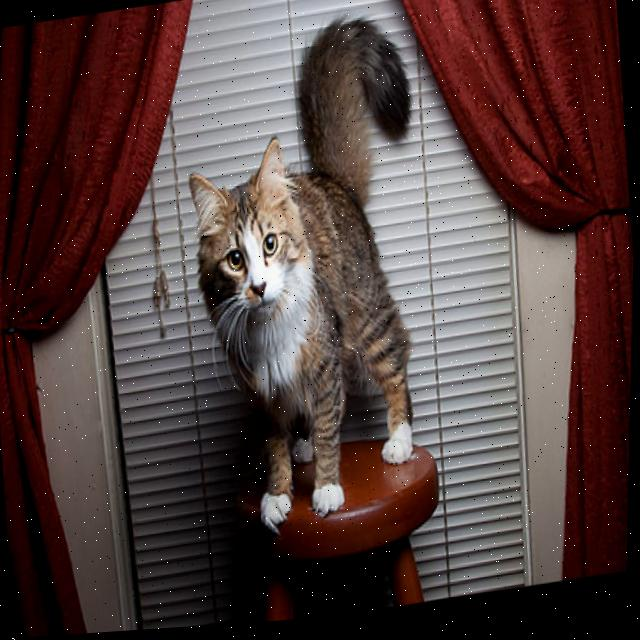Maine Coon: (166, 5, 453, 547)
